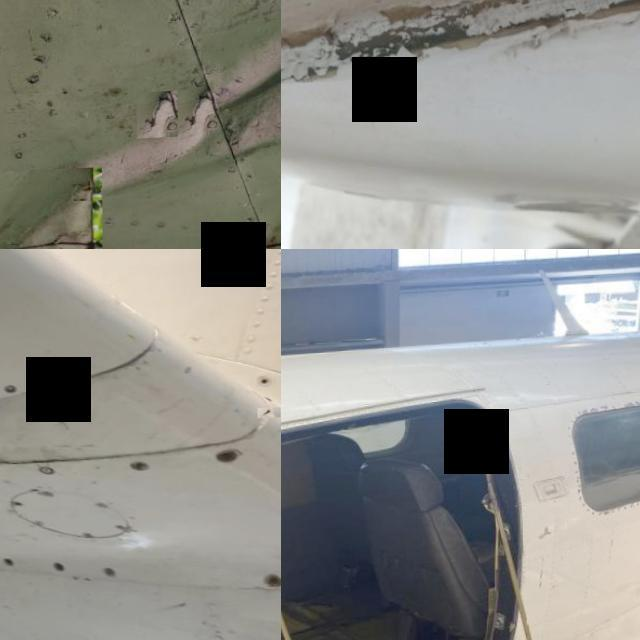Crack: (281, 0, 640, 88), (136, 94, 177, 141), (257, 413, 280, 424)
Dent: (0, 0, 281, 249), (0, 169, 102, 249)
Missing_Fastener: (212, 454, 240, 468), (258, 578, 281, 592), (128, 463, 148, 479), (48, 564, 67, 578), (64, 371, 80, 384), (1, 386, 18, 398), (256, 381, 272, 391), (0, 561, 13, 570)
